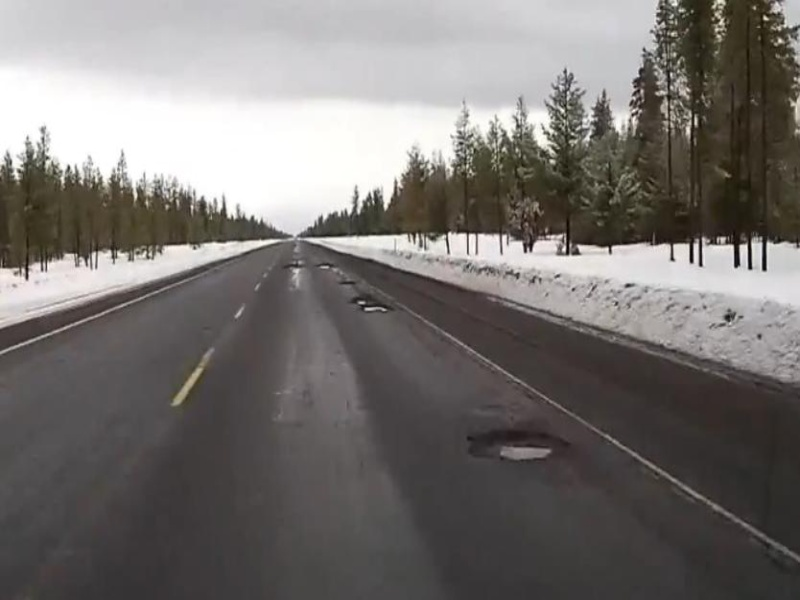pothole: (460, 426, 579, 467), (346, 293, 392, 314)
